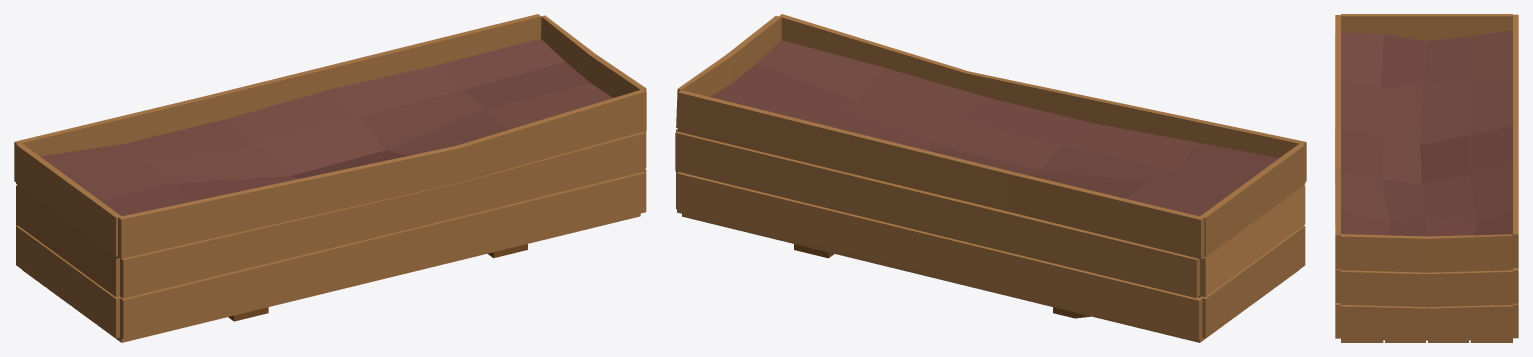
The model's file is Crate.004.fbx.
3 views of the same model, side by side, from view 1: azimuth 30°, elevation 25°; view 2: azimuth 150°, elevation 25°; view 3: azimuth 270°, elevation 25° (orthographic). The views are drawn at different scales.
Visible parts, largest first — view 1: Crate.004; view 2: Crate.004; view 3: Crate.004.
Boxes of the visible parts, bbox=[...] form: Crate.004: bbox=[14, 14, 646, 342]; Crate.004: bbox=[675, 14, 1306, 342]; Crate.004: bbox=[1335, 14, 1518, 342].
Bounding box in the file's own units: 1.84 × 0.4406 × 0.64.
